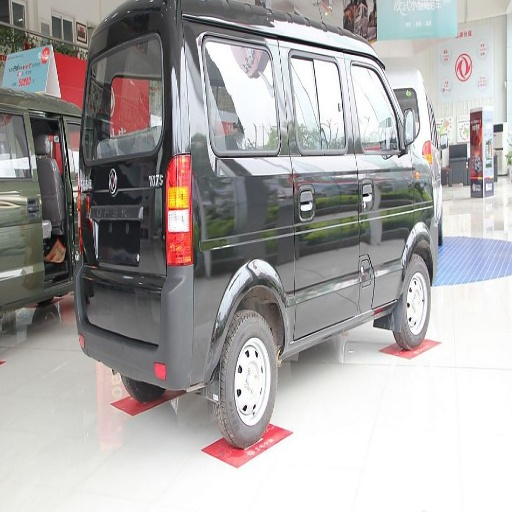back_right_door: (212, 27, 360, 334)
trunk: (138, 230, 284, 382)
